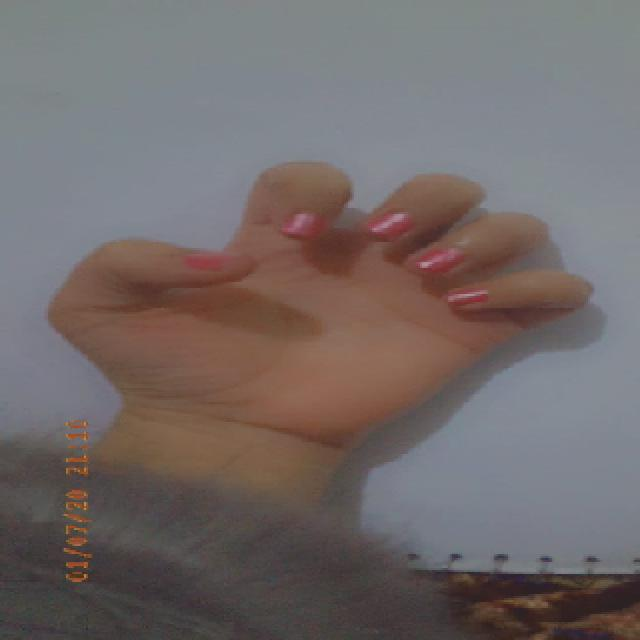Nail: (365, 212, 415, 241), (410, 250, 465, 276), (281, 212, 326, 238), (445, 285, 490, 308), (184, 252, 231, 269)
